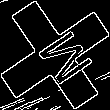M_SW: (21, 22, 89, 88)
